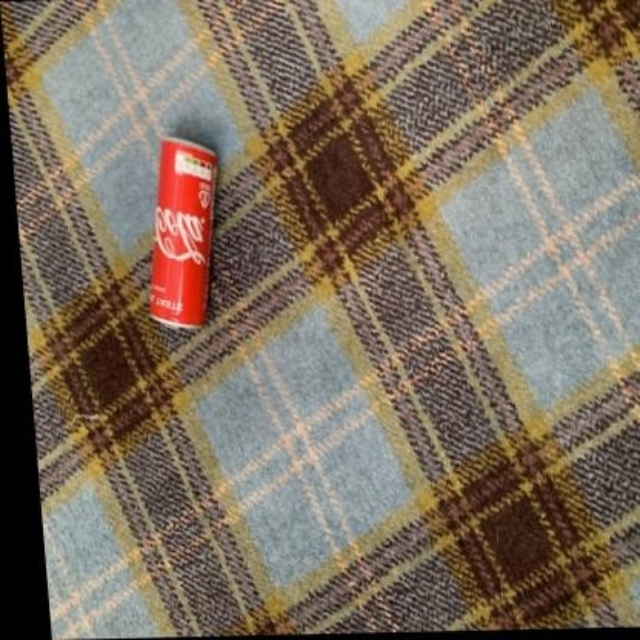trash: (149, 137, 215, 326)
